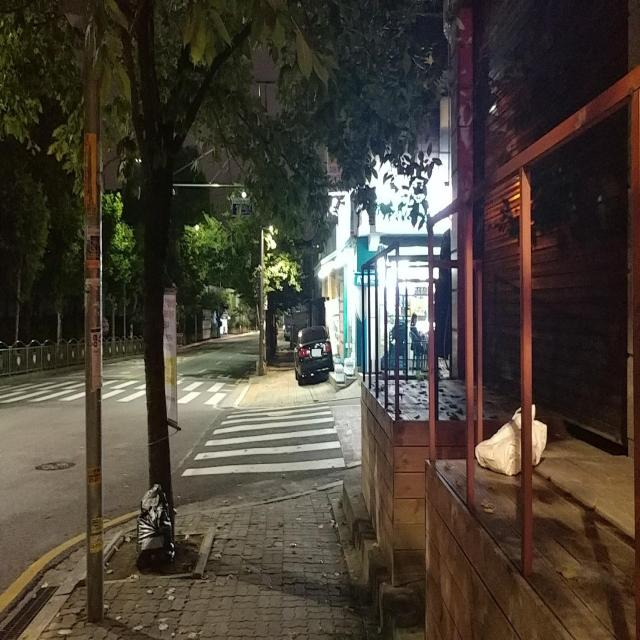횡단보도: (181, 403, 347, 480), (0, 369, 231, 411)
